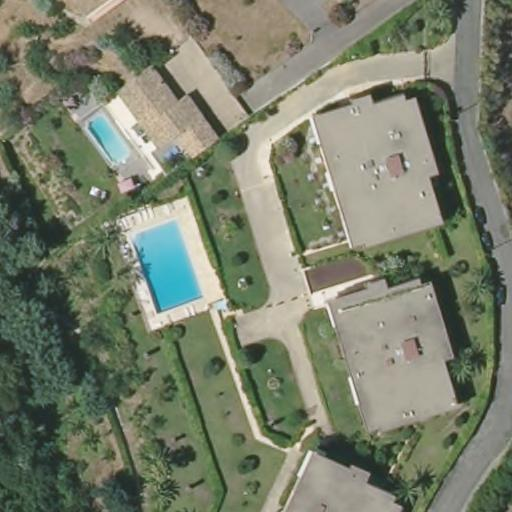pool: (134, 217, 203, 317), (82, 113, 130, 165)
